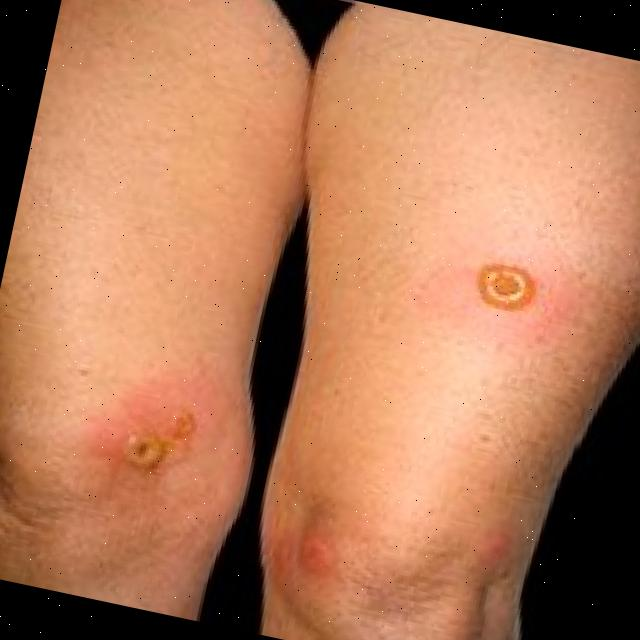kan emici bocekler: (115, 387, 218, 486), (468, 249, 555, 322)
